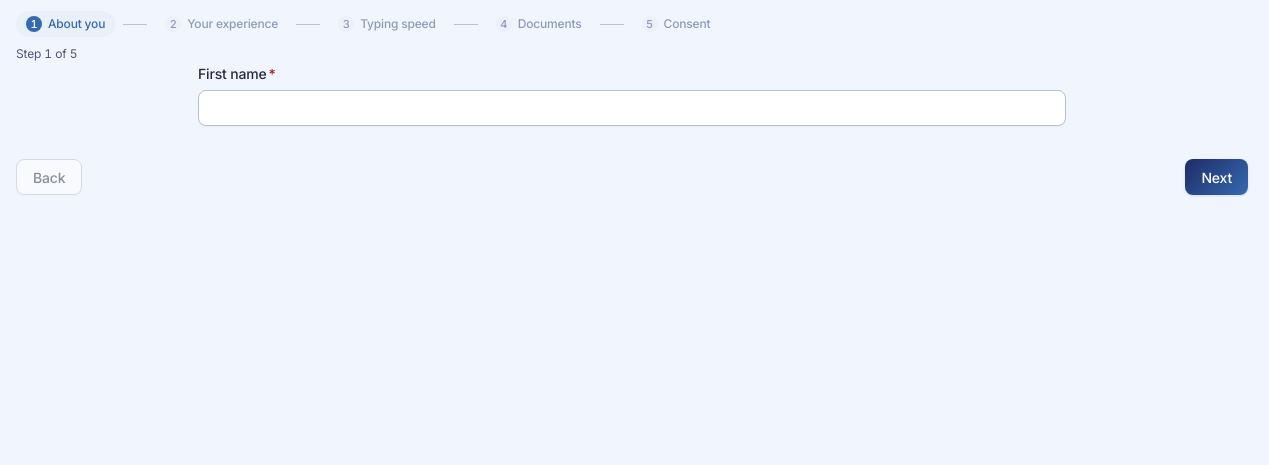
Test: built form: per-form typing and documents steps › consent copy › matches the wording /register shows
Type "Maria" into the field labelled "First name*" at coordinates (632, 108), box 198,90 -> 1066,126
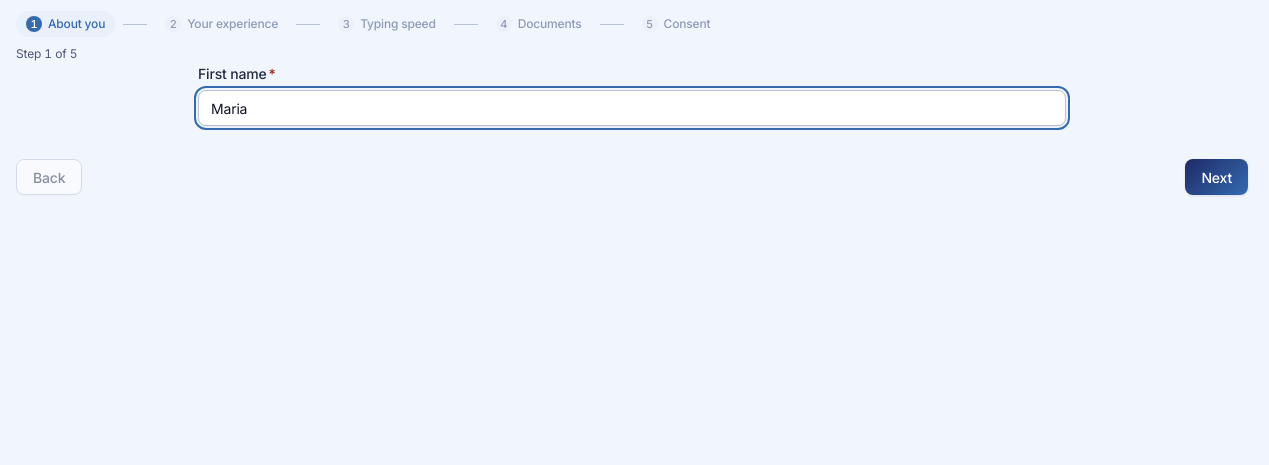
Click the button "Next" at coordinates (1217, 177), box 1185,159 -> 1248,195
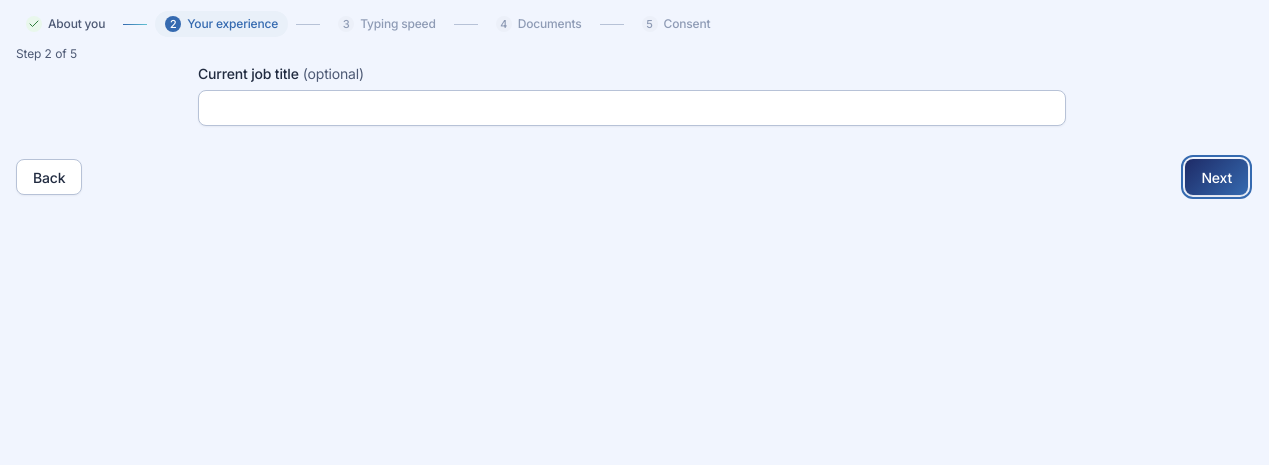
Expected: the field labelled "Current job title(optional)" is shown, 198,90 -> 1066,126
Click the button "Next" at coordinates (1217, 177), box 1185,159 -> 1248,195
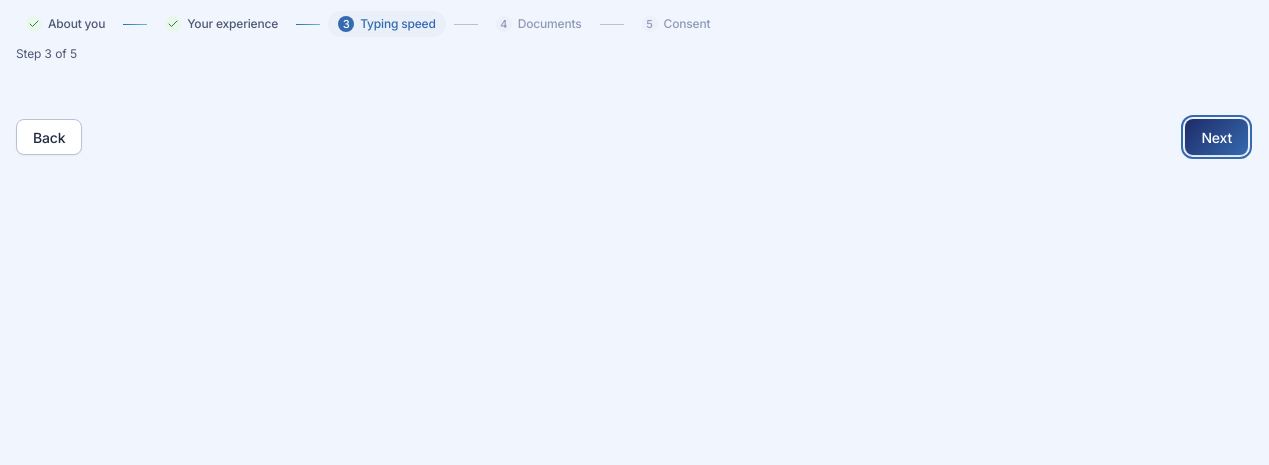
Click the button "Next" at coordinates (1217, 137), box 1185,119 -> 1248,155
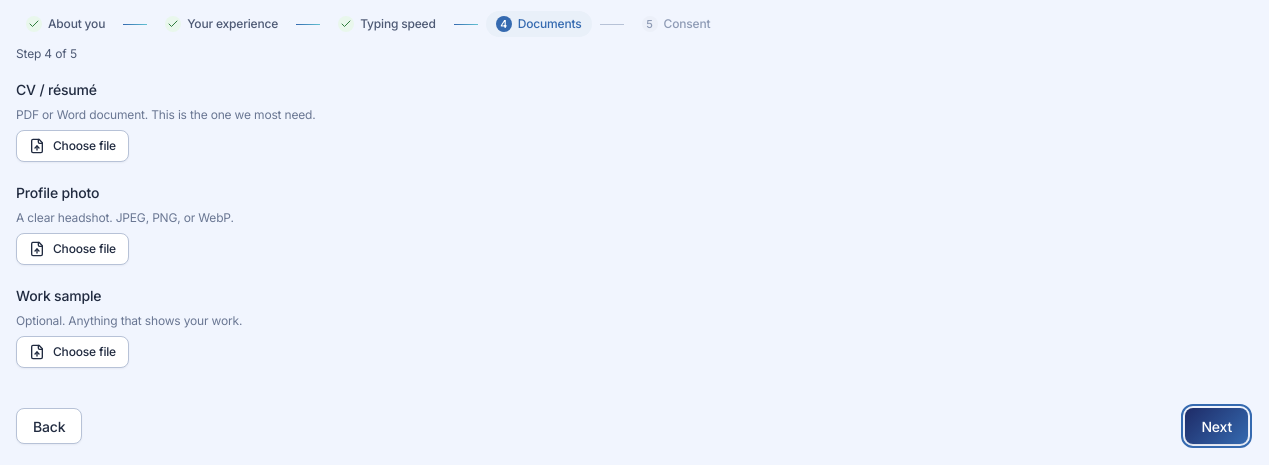
Click the button "Next" at coordinates (1217, 426), box 1185,408 -> 1248,444
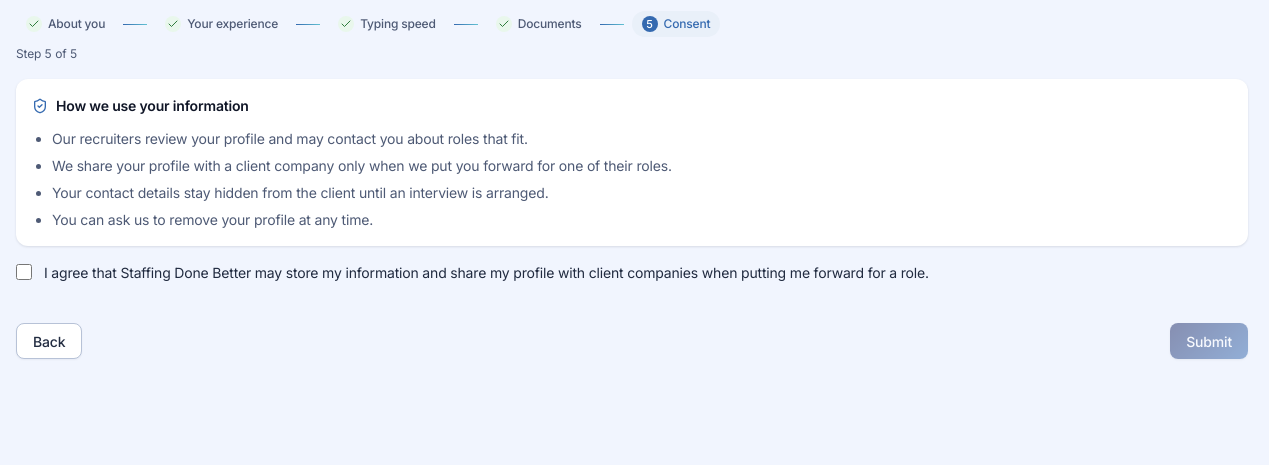
Expected: the element named "Consent" is shown, 16,63 -> 1248,299
Expected: the heading "How we use your information" is shown, 56,95 -> 249,116
Expected: the text "may store my information and share my profile with client companies when putting me forward for a role" is shown, 44,264 -> 929,281
